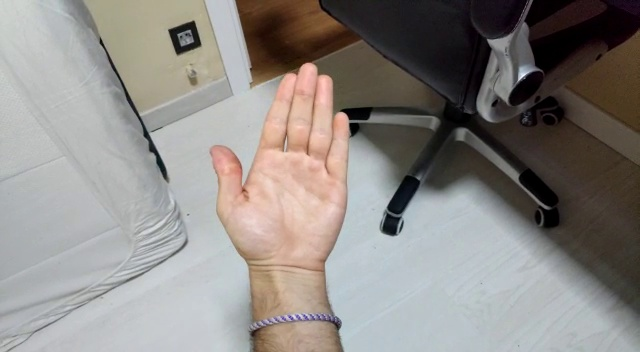Palm: (207, 59, 353, 283)
